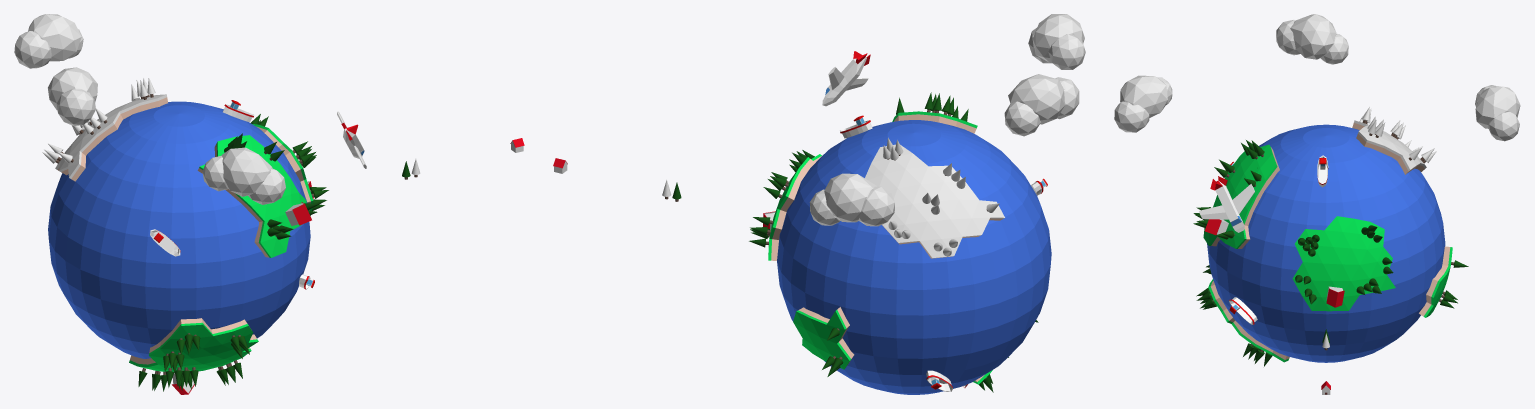
File: planet.glb
The picture shows the model from 3 angles, left to right: view 1: azimuth 30°, elevation 25°; view 2: azimuth 150°, elevation 25°; view 3: azimuth 270°, elevation 25°; orthographic projection. The views are drawn at different scales.
Visible parts, largest first — view 1: Sphere, Icosphere, Icosphere.002, Icosphere.005, Icosphere.007, Icosphere.008, Icosphere.004, Icosphere.001, Icosphere.003, plane.001; view 2: Sphere, Icosphere, Icosphere.008, Icosphere.005, Icosphere.002, plane.001, Icosphere.004, Icosphere.003, Icosphere.009, Icosphere.006, Icosphere.007; view 3: Sphere, Icosphere, Icosphere.008, Icosphere.002, plane.001, Icosphere.005, Icosphere.001, Icosphere.006, Icosphere.007, Icosphere.009.
Boxes of the visible parts, bbox=[...] form: Sphere: bbox=[48, 101, 310, 358]; Icosphere: bbox=[55, 94, 313, 371]; Icosphere.002: bbox=[221, 147, 272, 196]; Icosphere.005: bbox=[28, 14, 81, 61]; Icosphere.007: bbox=[56, 89, 95, 125]; Icosphere.008: bbox=[48, 67, 97, 110]; Icosphere.004: bbox=[14, 31, 51, 68]; Icosphere.001: bbox=[248, 168, 285, 204]; Icosphere.003: bbox=[202, 155, 227, 191]; plane.001: bbox=[337, 111, 366, 168]; Sphere: bbox=[777, 120, 1051, 394]; Icosphere: bbox=[768, 111, 1004, 384]; Icosphere.008: bbox=[1008, 74, 1064, 124]; Icosphere.005: bbox=[824, 173, 876, 222]; Icosphere.002: bbox=[1033, 14, 1084, 62]; plane.001: bbox=[822, 51, 870, 106]; Icosphere.004: bbox=[858, 186, 894, 226]; Icosphere.003: bbox=[1048, 34, 1085, 69]; Icosphere.009: bbox=[1004, 101, 1040, 136]; Icosphere.006: bbox=[809, 189, 840, 225]; Icosphere.007: bbox=[1055, 77, 1079, 119]; Sphere: bbox=[1207, 124, 1445, 362]; Icosphere: bbox=[1203, 120, 1452, 362]; Icosphere.008: bbox=[1290, 14, 1336, 59]; Icosphere.002: bbox=[1120, 75, 1167, 117]; plane.001: bbox=[1199, 176, 1254, 232]; Icosphere.005: bbox=[1475, 86, 1520, 128]; Icosphere.001: bbox=[1114, 101, 1149, 132]; Icosphere.006: bbox=[1487, 112, 1519, 141]; Icosphere.007: bbox=[1276, 20, 1300, 55]; Icosphere.009: bbox=[1320, 33, 1348, 64].
Size of the model in its own units: 9.67 by 6.42 by 7.82.
